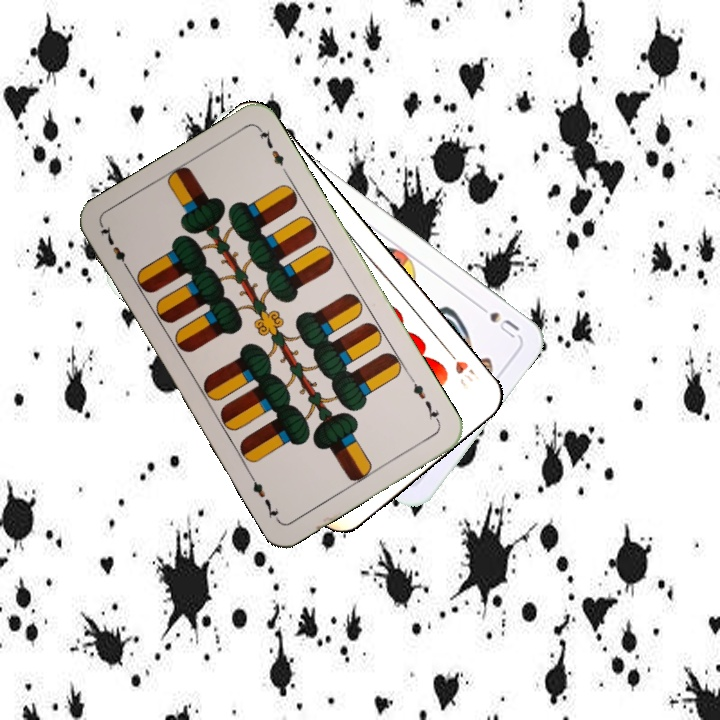E7: (96, 222, 133, 275), (407, 373, 443, 426)
H10: (440, 343, 483, 392)
SU: (470, 298, 522, 341)
